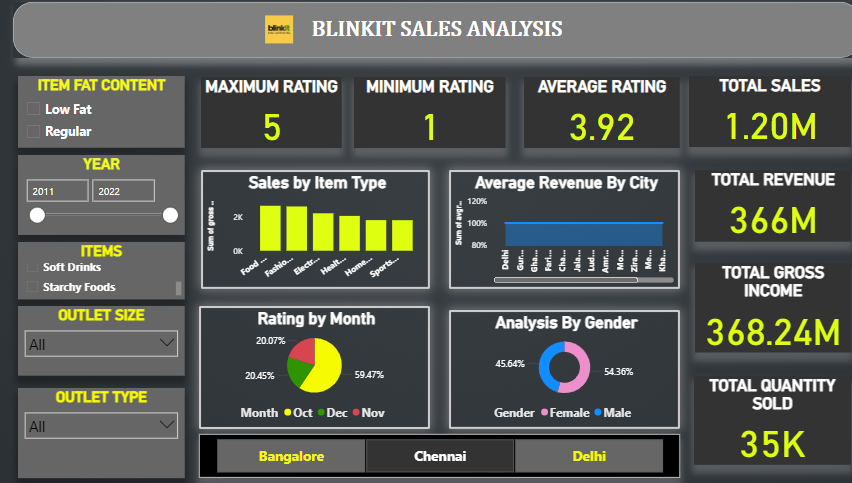

The page's visual inventory and layout, read from the dashboard file:
{"tool":"powerbi","page":{"name":"Dashboard","canvas":[1280,720],"ordinal":0},"visuals":[{"type":"shape","title":"BLINKIT SALES ANALYSIS","box":[20,11.7,1240,81.7],"z":0},{"type":"card","title":"MAXIMUM RATING","fields":{"Values":["blinkit 20's.maximum rating"]},"box":[295.6,120.9,206.3,103.9],"z":1000},{"type":"card","title":"MINIMUM RATING","fields":{"Values":["blinkit 20's.minrating"]},"box":[519.5,121.5,222.4,103.9],"z":2000},{"type":"card","title":"TOTAL SALES","fields":{"Values":["Sum(blinkit 20's.Sales)"]},"box":[1009.8,120,237.1,103.9],"z":3000},{"type":"card","title":"AVERAGE RATING","fields":{"Values":["Avg(blinkit 20's.Rating)"]},"box":[768.3,121.5,228.3,103.9],"z":4000},{"type":"slicer","title":"ITEM FAT CONTENT","fields":{"Values":["blinkit 20's.Item Fat Content"]},"box":[27.3,120,244.5,104.8],"z":5000},{"type":"slicer","title":"YEAR","fields":{"Values":["blinkit 20's.Outlet Establishment Year"]},"box":[27.3,235.3,244.5,116.9],"z":6000},{"type":"slicer","title":"ITEMS","fields":{"Values":["blinkit 20's.Item Type"]},"box":[27.3,362.9,244.5,83.5],"z":7000},{"type":"slicer","title":"OUTLET SIZE","fields":{"Values":["blinkit 20's.Outlet Size"]},"box":[27.3,457,244.5,101.7],"z":8000},{"type":"slicer","title":"OUTLET TYPE","fields":{"Values":["blinkit 20's.Outlet Type"]},"box":[27.3,577,244.5,132.1],"z":9000},{"type":"clusteredColumnChart","title":"Sales by Item Type","fields":{"Y":["Sum(blinkit dark store.gross margin percentage)"],"Category":["blinkit dark store.Product line"]},"box":[295.6,257.6,335.1,174.1],"z":10000},{"type":"hundredPercentStackedAreaChart","title":"Average Revenue By City","fields":{"Y":["Sum(oil and dry fruits.avgrevenue)"],"Category":["oil and dry fruits.city_name"]},"box":[658.5,257.6,338,174.1],"z":11000},{"type":"pieChart","title":" Rating by Month","fields":{"Y":["Sum(oil and dry fruits.qty_sold)"],"Category":["oil and dry fruits.Month"]},"box":[292.7,456.6,338,180],"z":12000},{"type":"donutChart","title":"Analysis By Gender","fields":{"Category":["blinkit dark store.Gender"],"Y":["Sum(blinkit dark store.totalgross)"]},"box":[658.5,462.4,338,174.1],"z":13000},{"type":"image","box":[383.4,26.3,52.7,51.2],"z":14000},{"type":"card","title":"TOTAL REVENUE","fields":{"Values":["Sum(oil and dry fruits.Revenue)"]},"box":[1018.8,258.1,229.3,104.8],"z":15000},{"type":"card","title":"TOTAL GROSS INCOME","fields":{"Values":["Sum(blinkit dark store.totalgross)"]},"box":[1018.8,393.3,229.3,130.6],"z":16000},{"type":"card","title":"TOTAL QUANTITY SOLD","fields":{"Values":["Sum(oil and dry fruits.qty_sold)"]},"box":[1017.1,559,229.8,130.2],"z":17000},{"type":"slicer","fields":{"Values":["blinkit dark store.City"]},"box":[292.7,643.9,703.9,64.4],"z":18000}]}

Visuals, with their boxes in screenshot pixels (x1, y1, x2, y2), scaled from the page's 1280x720 canvas onto the 852x483 screenshot:
"BLINKIT SALES ANALYSIS" shape: bbox(13, 8, 839, 63)
"MAXIMUM RATING" card: bbox(197, 81, 334, 151)
"MINIMUM RATING" card: bbox(346, 82, 494, 151)
"TOTAL SALES" card: bbox(672, 80, 830, 150)
"AVERAGE RATING" card: bbox(511, 82, 663, 151)
"ITEM FAT CONTENT" slicer: bbox(18, 80, 181, 151)
"YEAR" slicer: bbox(18, 158, 181, 236)
"ITEMS" slicer: bbox(18, 243, 181, 299)
"OUTLET SIZE" slicer: bbox(18, 307, 181, 375)
"OUTLET TYPE" slicer: bbox(18, 387, 181, 476)
"Sales by Item Type" clusteredColumnChart: bbox(197, 173, 420, 290)
"Average Revenue By City" hundredPercentStackedAreaChart: bbox(438, 173, 663, 290)
" Rating by Month" pieChart: bbox(195, 306, 420, 427)
"Analysis By Gender" donutChart: bbox(438, 310, 663, 427)
image: bbox(255, 18, 290, 52)
"TOTAL REVENUE" card: bbox(678, 173, 831, 243)
"TOTAL GROSS INCOME" card: bbox(678, 264, 831, 351)
"TOTAL QUANTITY SOLD" card: bbox(677, 375, 830, 462)
slicer - blinkit dark store.City: bbox(195, 432, 663, 475)
